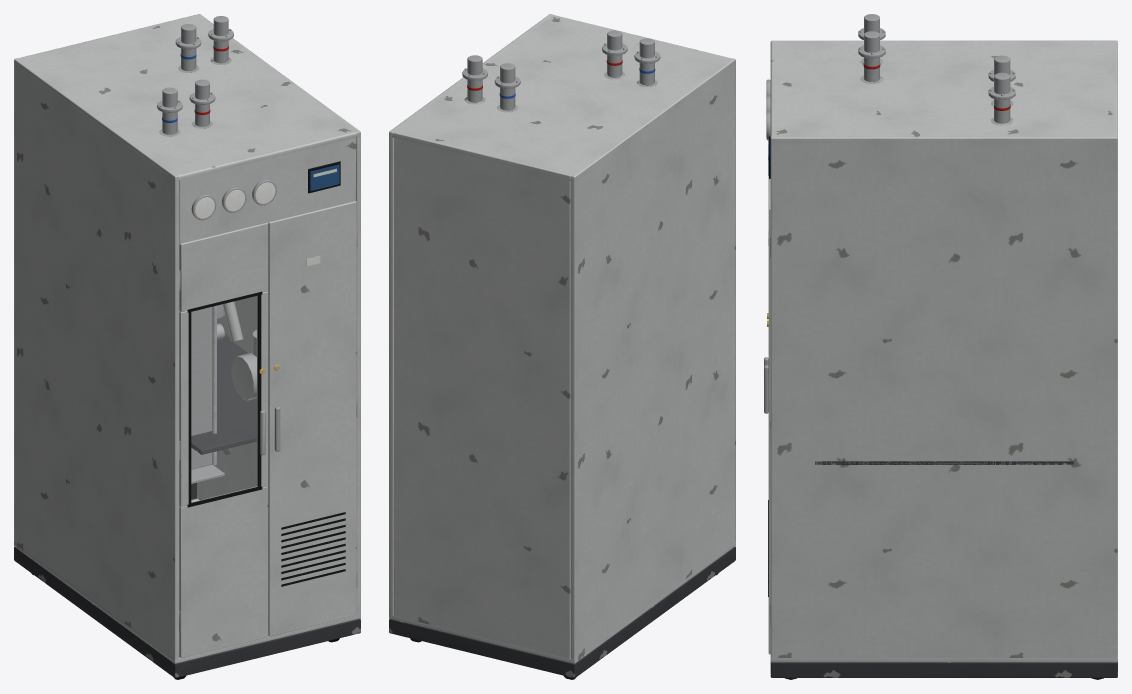
The model's file is cdu-liquid.glb.
3 views of the same model, side by side, from view 1: azimuth 30°, elevation 25°; view 2: azimuth 150°, elevation 25°; view 3: azimuth 270°, elevation 25° (orthographic). The views are drawn at different scales.
Visible parts, largest first — view 1: cdu-liquid; view 2: cdu-liquid; view 3: cdu-liquid.
Part boxes in pixels (x1,y1,x2,y2): cdu-liquid: [14, 14, 360, 679]; cdu-liquid: [389, 14, 735, 679]; cdu-liquid: [764, 14, 1117, 679].
Bounding box in the file's own units: 0.8001 × 2.27 × 1.22.
Materials: 16 (14 with a texture image).
